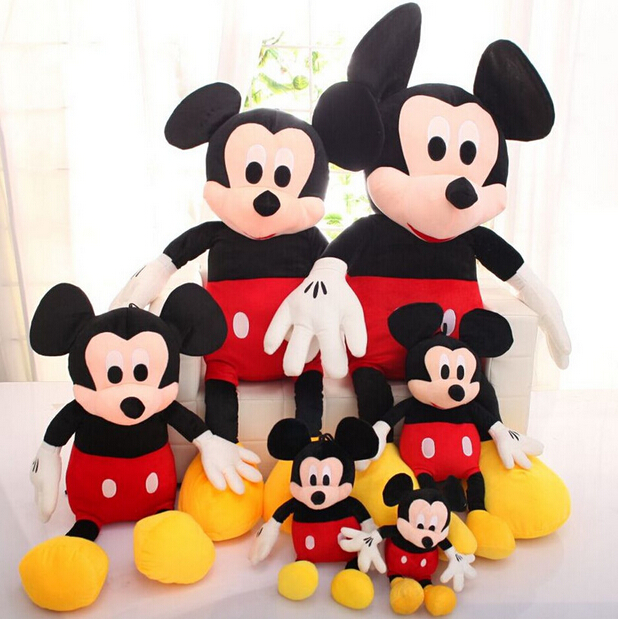Mickey: (340, 11, 548, 247), (159, 80, 384, 239), (23, 274, 234, 430), (376, 300, 519, 416), (262, 411, 380, 513), (379, 464, 474, 563)
